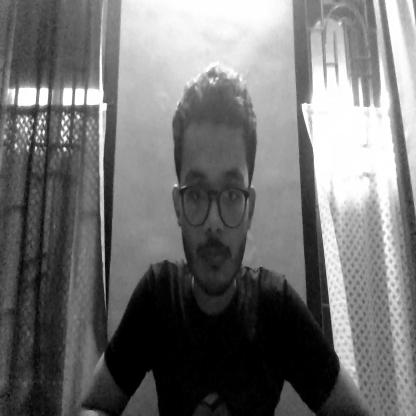Normal: (166, 57, 258, 290)
